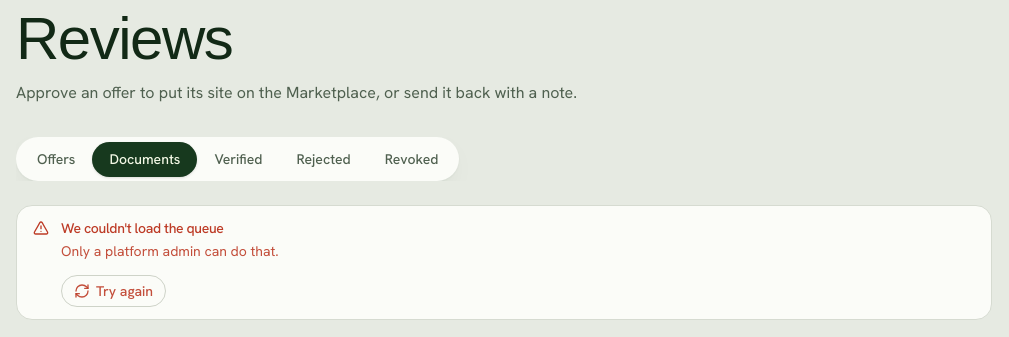
Test case: ReviewQueueScreen › shows an error with a retry
Expected: the text "Only a platform admin can do that." is shown, [61,240,279,263]
What coordinates should you click on to do the following:
click the button "Try again"
I would click on:
 (114, 291)
Its box is [61,275,166,307].
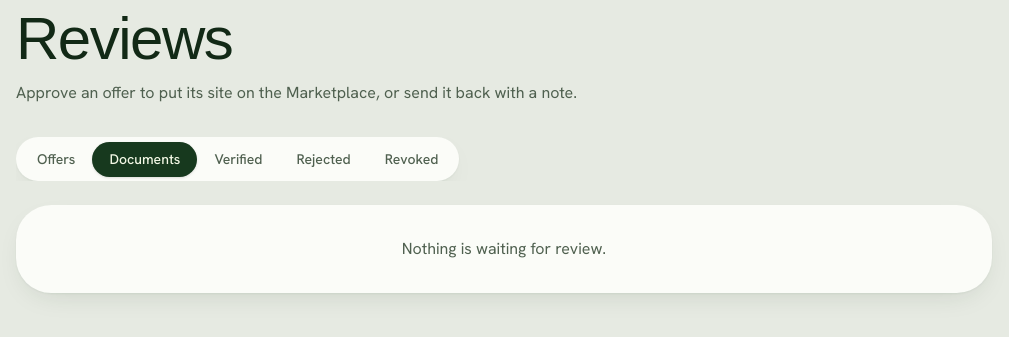
Expected: the text "Nothing is waiting for review." is shown, [16,205,992,293]
